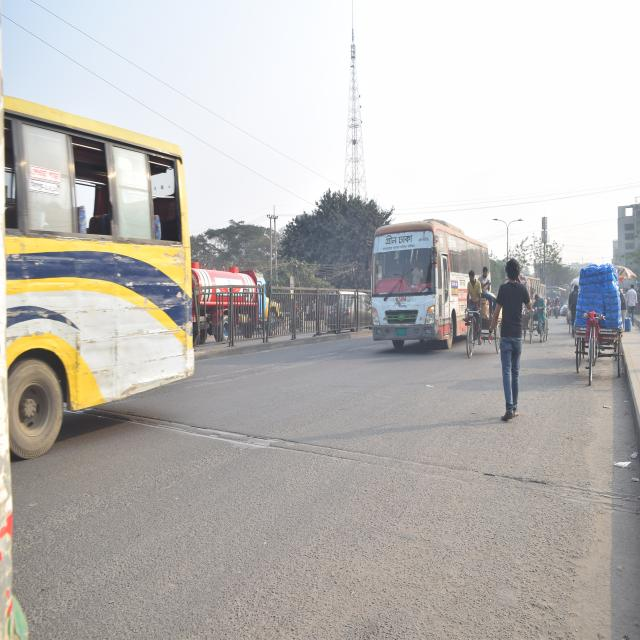bus: (1, 118, 201, 478), (368, 218, 490, 358), (513, 272, 542, 312)
motorbike: (552, 296, 562, 321), (544, 296, 552, 321)
truck: (195, 262, 290, 354)
